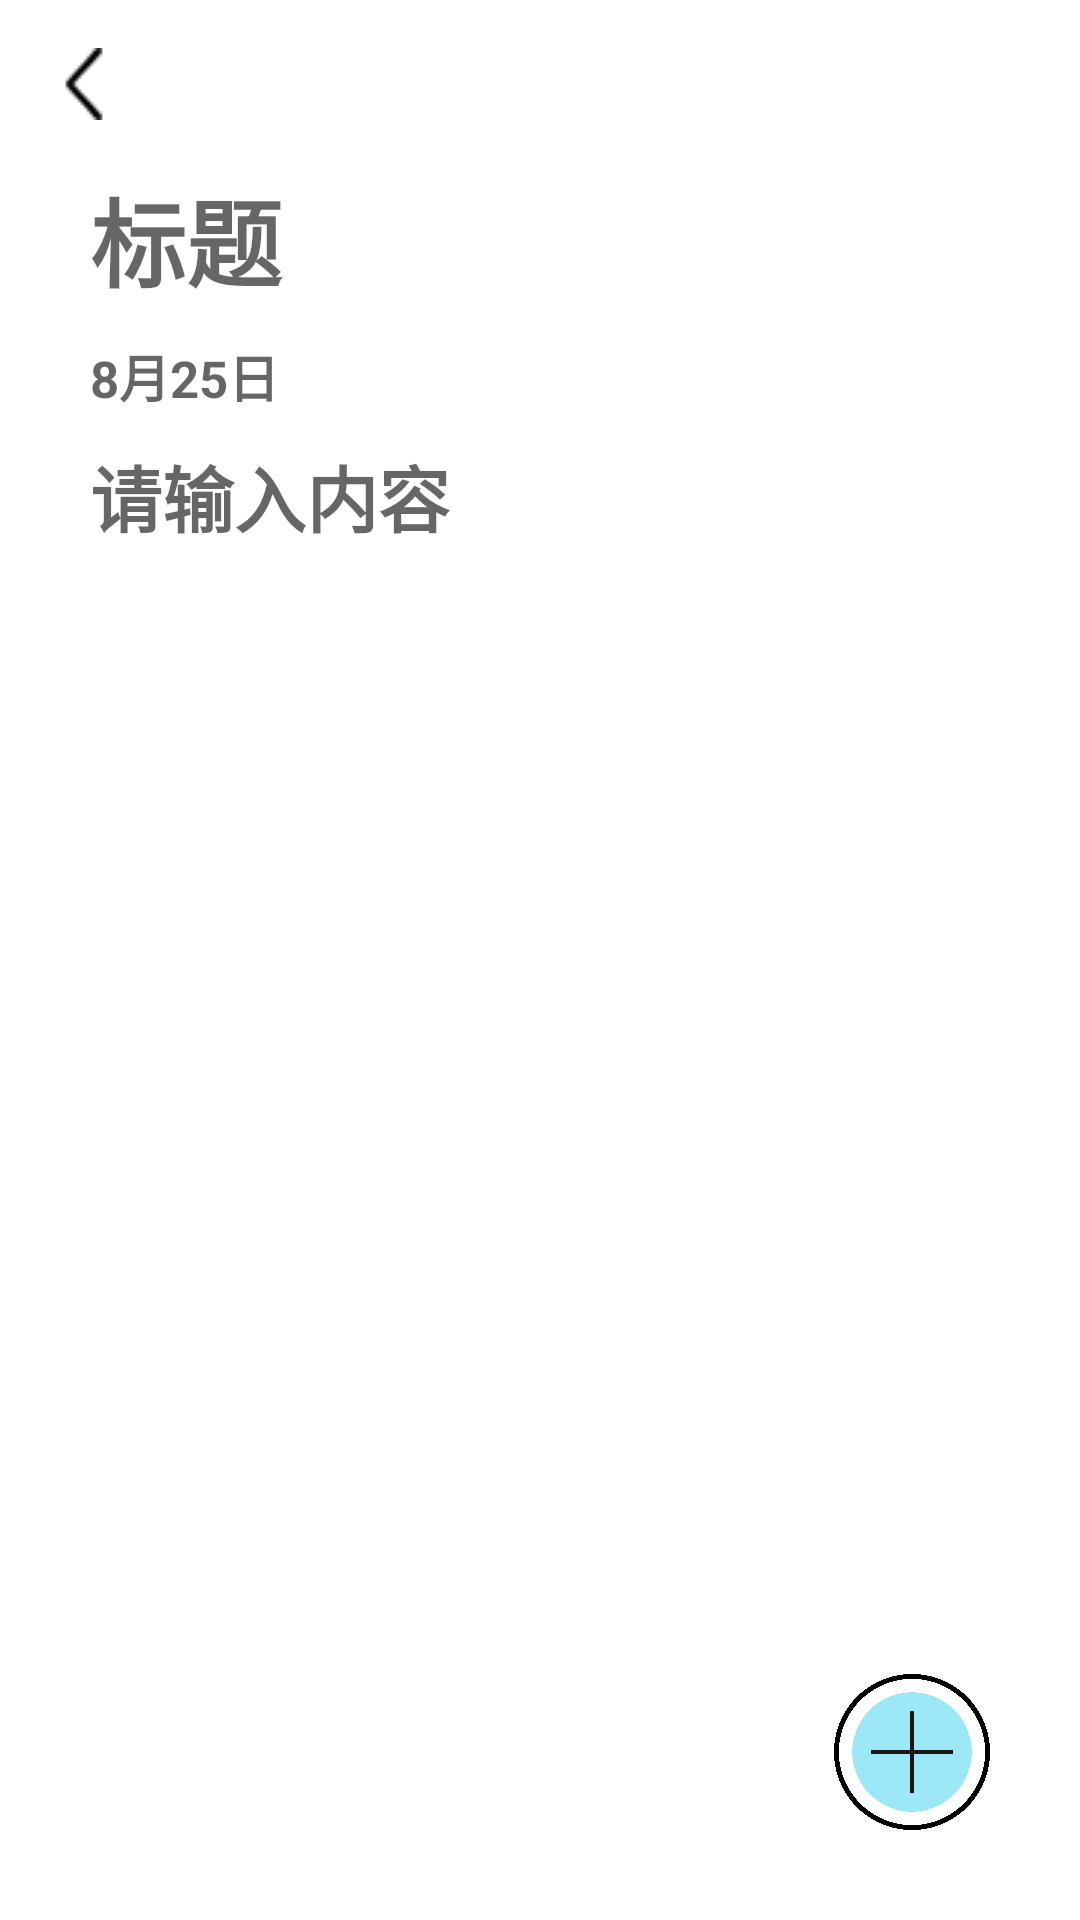

Point at icon controls on the screen. Image size 1080 x 1920, points as [x,y].
add: [912,1752]
